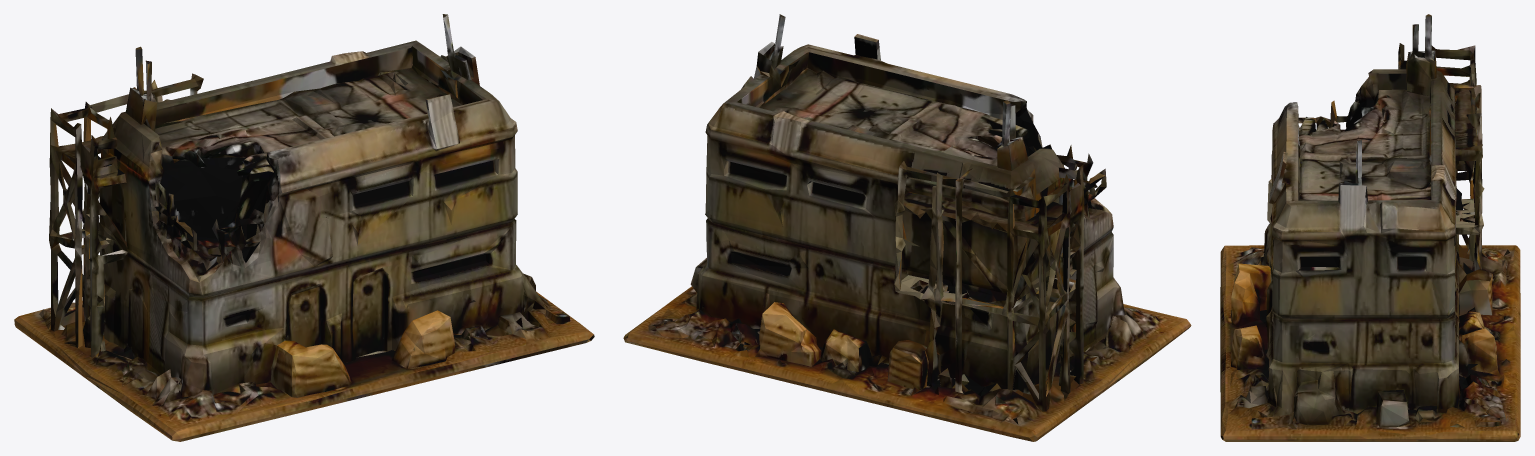
File: outpost-bunker.glb
The picture shows the model from 3 angles, left to right: view 1: azimuth 30°, elevation 25°; view 2: azimuth 150°, elevation 25°; view 3: azimuth 270°, elevation 25°; orthographic projection. The views are drawn at different scales.
Parts seen in each view (by area): view 1: tmpifd5tf6c.ply; view 2: tmpifd5tf6c.ply; view 3: tmpifd5tf6c.ply.
Part boxes in pixels (x1,y1,x2,y2): tmpifd5tf6c.ply: (14, 14, 594, 441); tmpifd5tf6c.ply: (623, 14, 1191, 441); tmpifd5tf6c.ply: (1220, 14, 1520, 441).
Bounding box in the file's own units: 6 × 4 × 4.
Materials: 1 (1 with a texture image).
